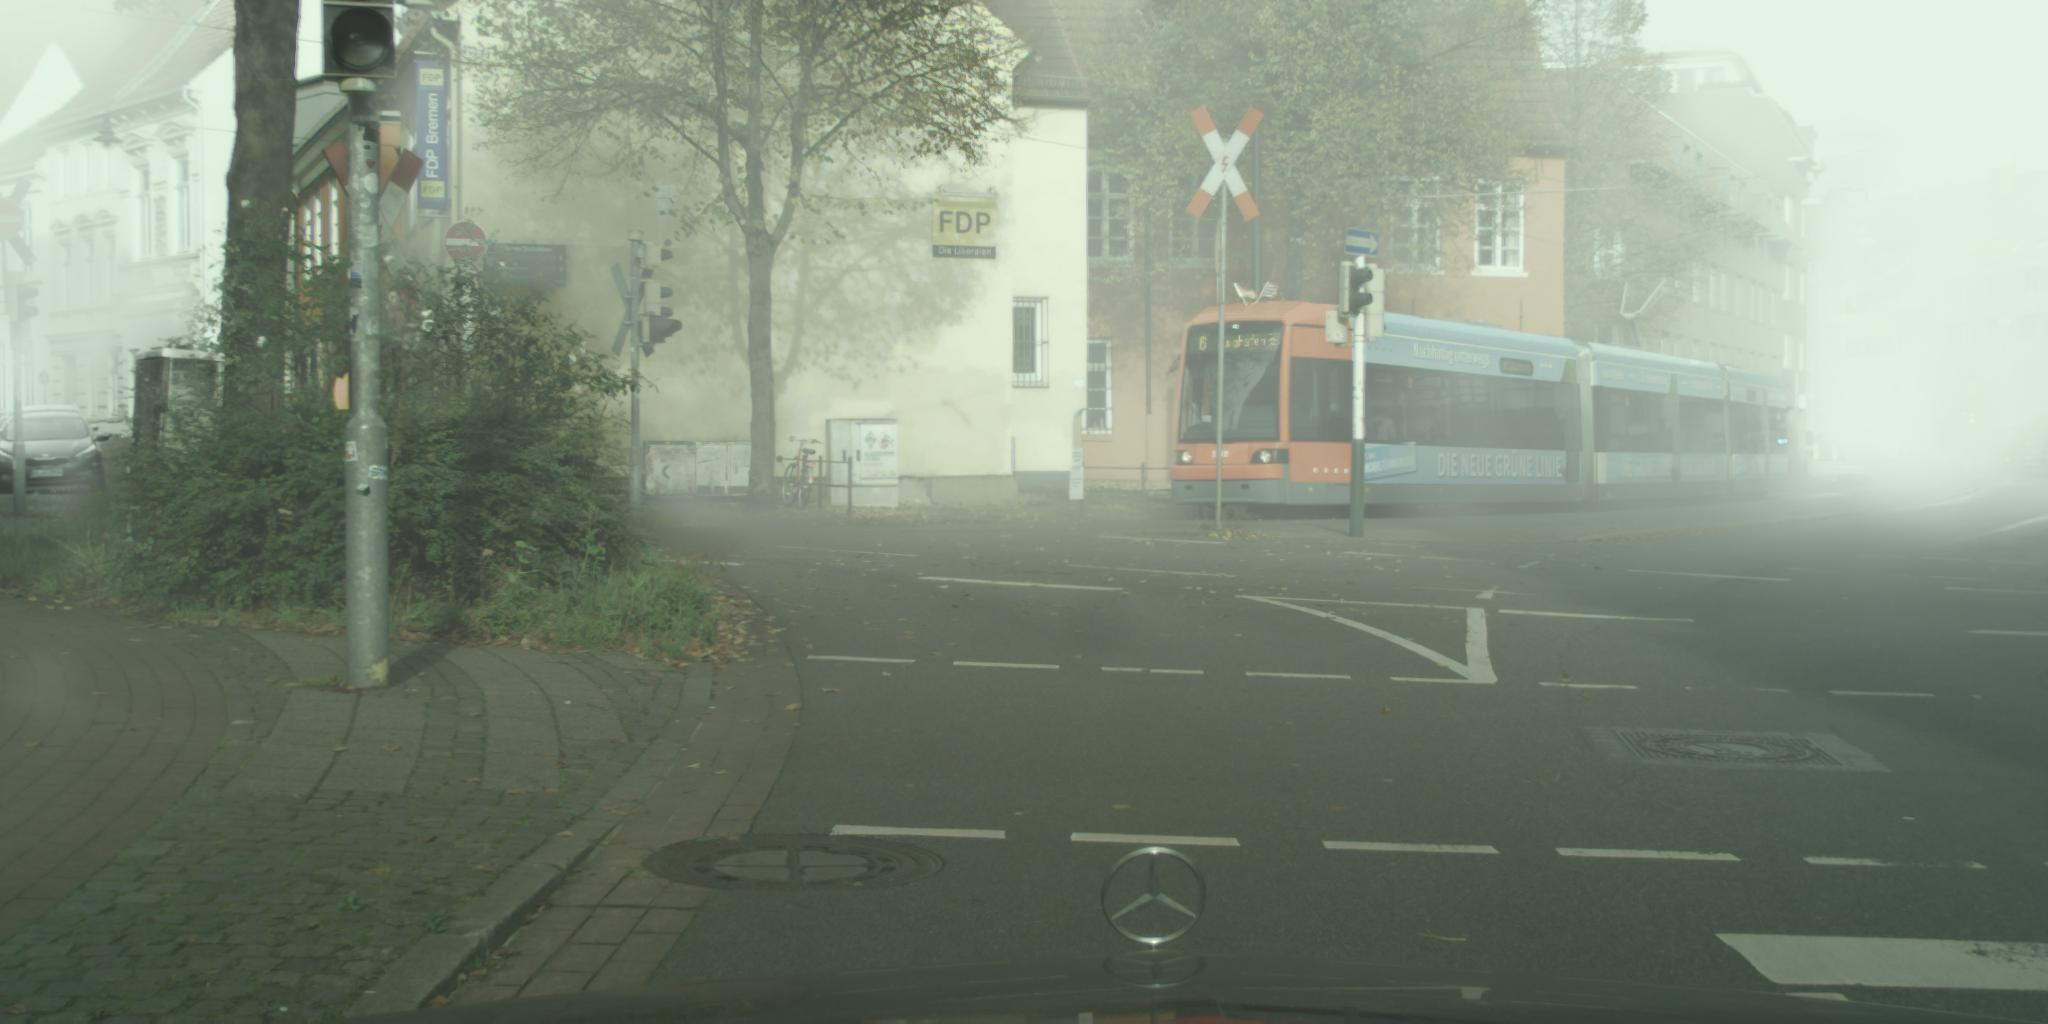bicycle: (782, 438, 822, 505)
car: (1, 411, 110, 498), (1, 404, 85, 434), (2004, 441, 2048, 486)
train: (1170, 302, 1789, 505)
